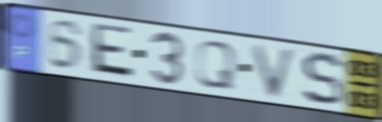3: (149, 30, 186, 87)
6: (45, 18, 86, 72)
E: (88, 21, 137, 82)
Q: (192, 38, 239, 92)
S: (300, 50, 345, 108)
V: (249, 42, 301, 101)
